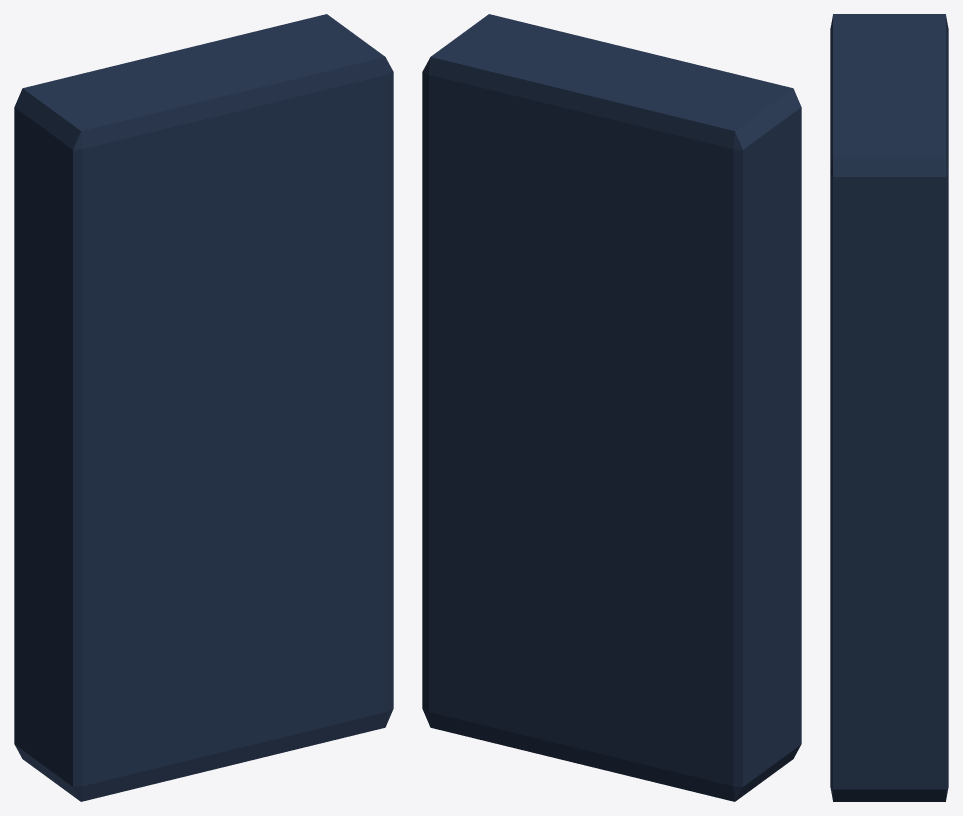
File: 1xObstacle-Tall.fbx
3 views of the same model, side by side, from view 1: azimuth 30°, elevation 25°; view 2: azimuth 150°, elevation 25°; view 3: azimuth 270°, elevation 25° (orthographic). The views are drawn at different scales.
Parts seen in each view (by area): view 1: Cube.001; view 2: Cube.001; view 3: Cube.001.
Boxes of the visible parts, x1,y1,x2,y2 form: Cube.001: (14,14,393,801); Cube.001: (422,14,801,801); Cube.001: (830,14,948,801).
Bounding box in the file's own units: 600 × 1200 × 200.
